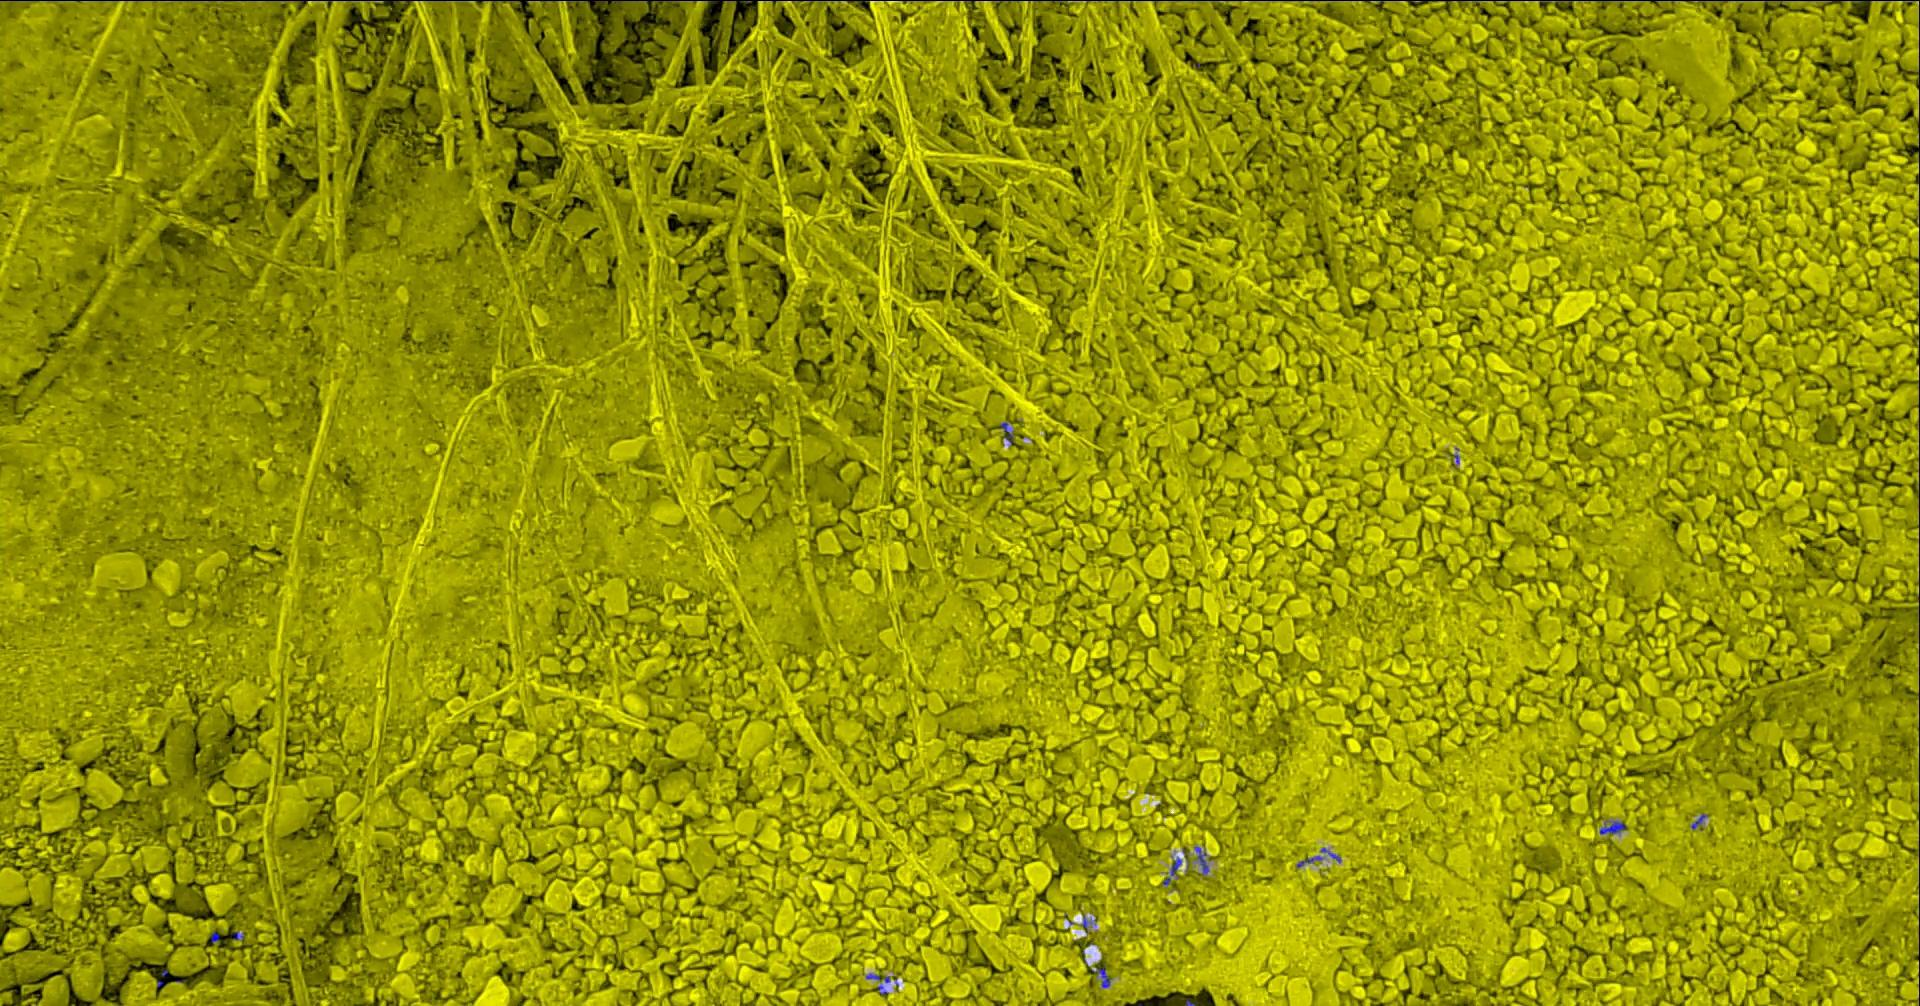ant: (1091, 963, 1109, 987), (1194, 846, 1208, 873), (1599, 821, 1625, 833), (999, 422, 1013, 445), (1170, 857, 1181, 875)
